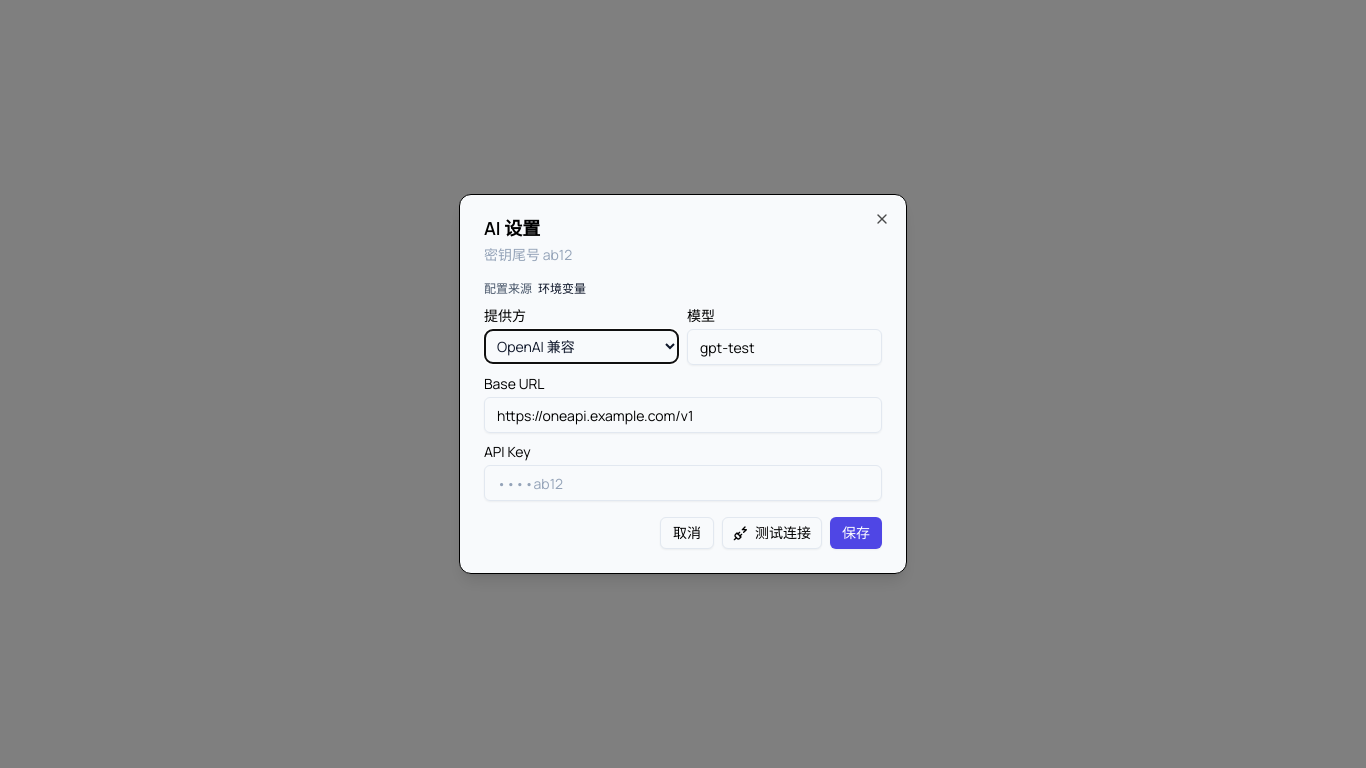
Scenario: AiSettingsDialog › 测试连接 shows the probe latency and a failure shows the message
Expected: the field showing "gpt-test" is shown, x1=687 y1=329 x2=882 y2=365
Click the button "测试连接".
click(772, 533)  # box x1=722 y1=517 x2=822 y2=549
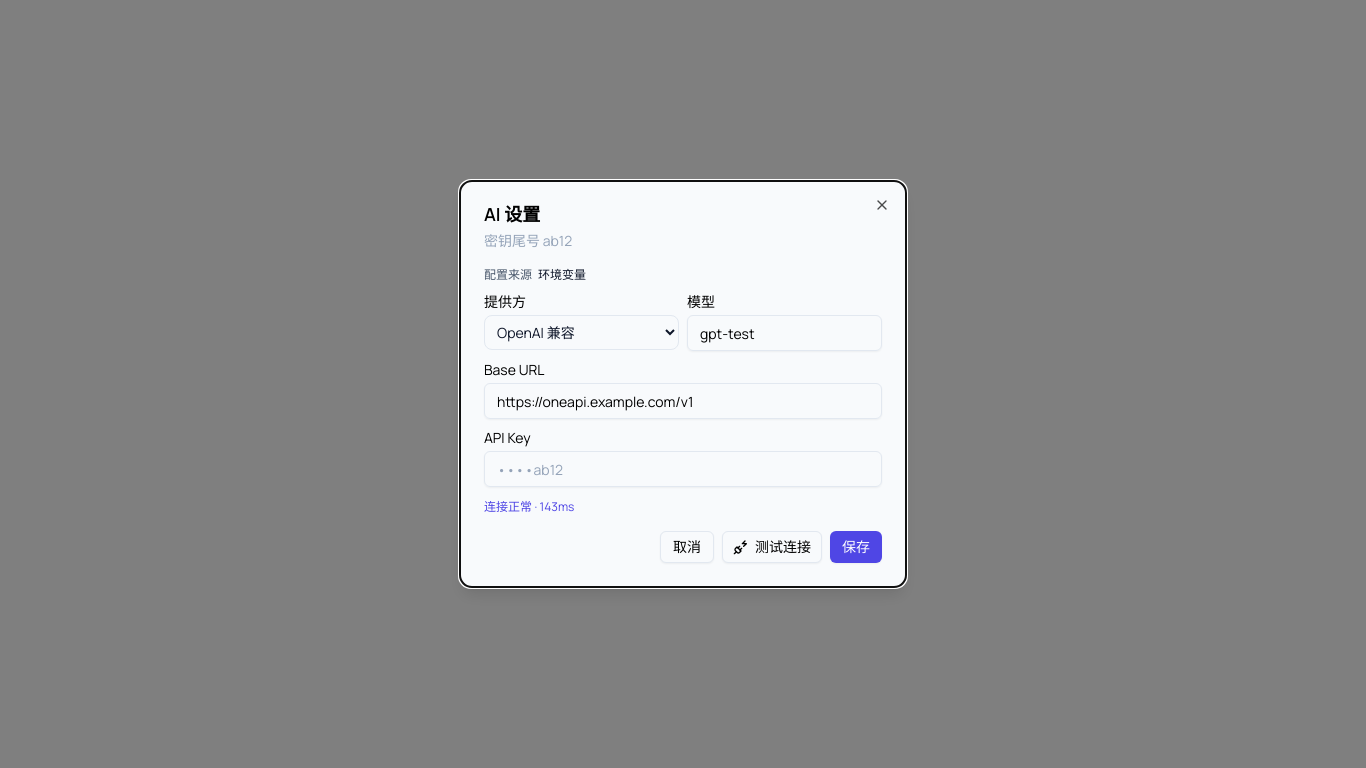
Expected: the text "连接正常 · 143ms" is shown, x1=484 y1=499 x2=574 y2=515
Click the button "测试连接".
click(772, 547)  # box x1=722 y1=531 x2=822 y2=563
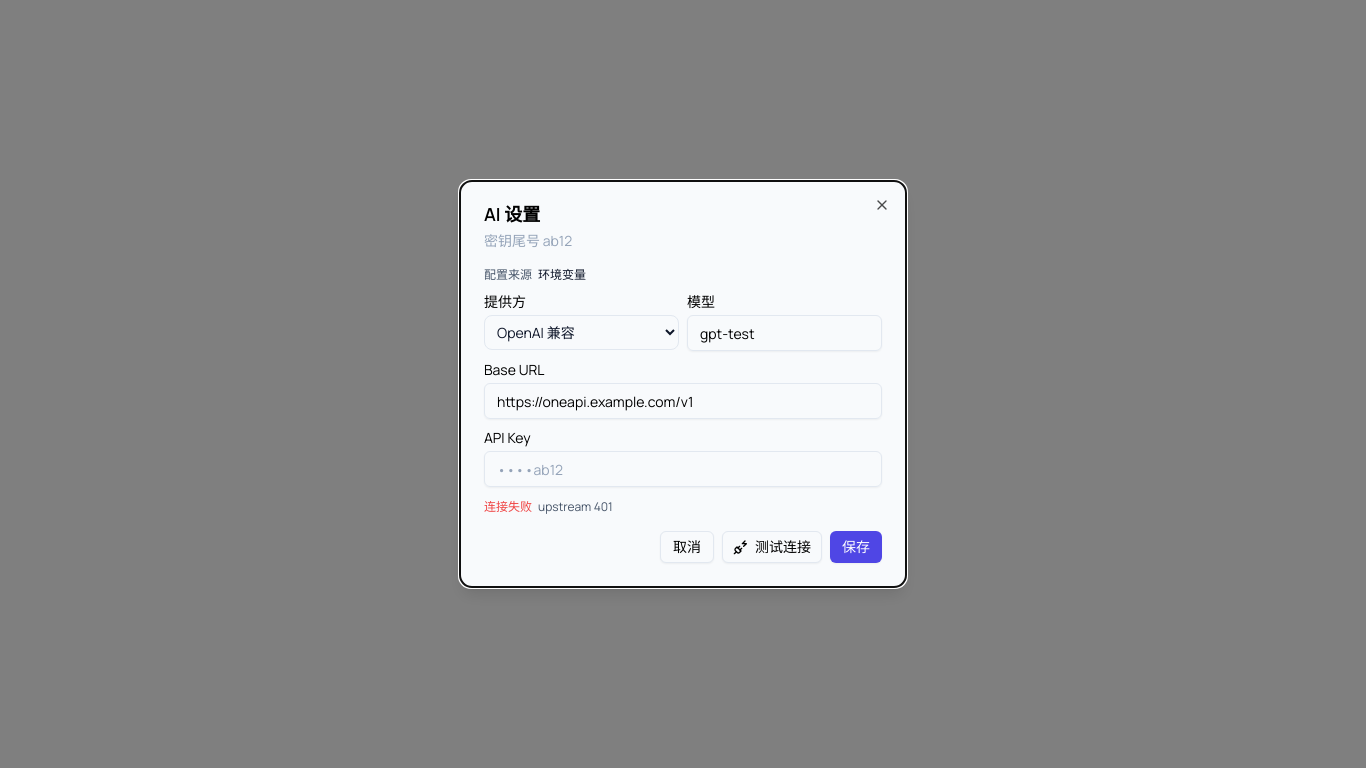
Expected: the text "连接失败" is shown, x1=484 y1=499 x2=532 y2=515
Expected: the text "upstream 401" is shown, x1=538 y1=499 x2=613 y2=515
